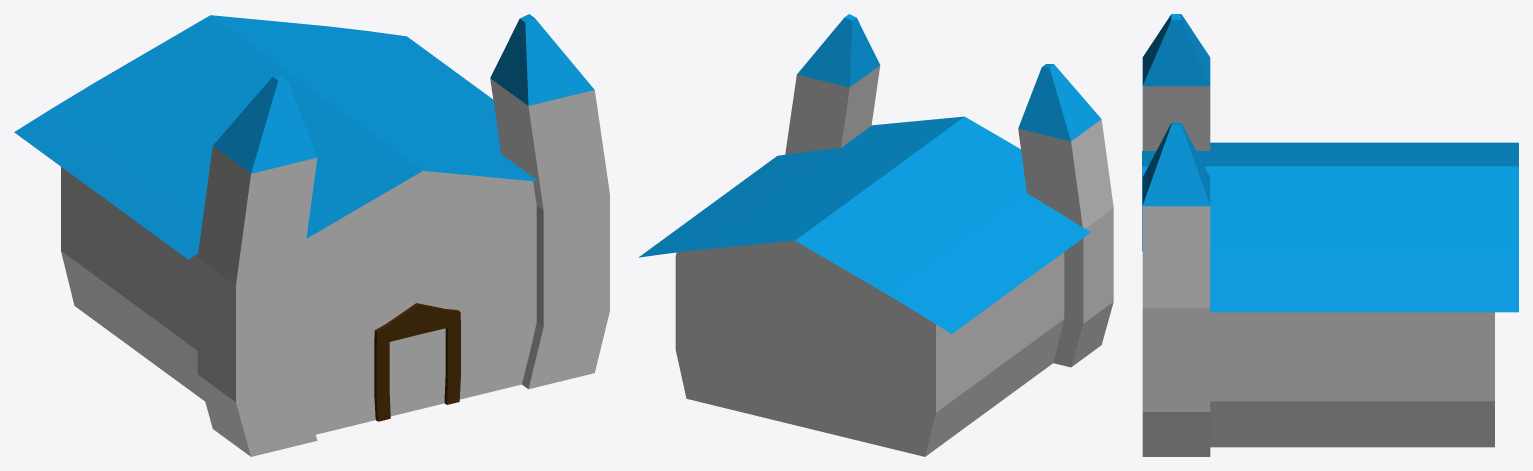
The model's file is igreja1-0-1.fbx.
3 views of the same model, side by side, from view 1: azimuth 30°, elevation 25°; view 2: azimuth 150°, elevation 25°; view 3: azimuth 270°, elevation 25° (orthographic). The views are drawn at different scales.
Visible parts, largest first — view 1: Cube.003; view 2: Cube.003; view 3: Cube.003.
Part boxes in pixels (x1,y1,x2,y2): Cube.003: (14,14,609,456); Cube.003: (638,14,1113,456); Cube.003: (1142,14,1518,456).
Size of the model in its own units: 16.3 by 14.02 by 15.28.
